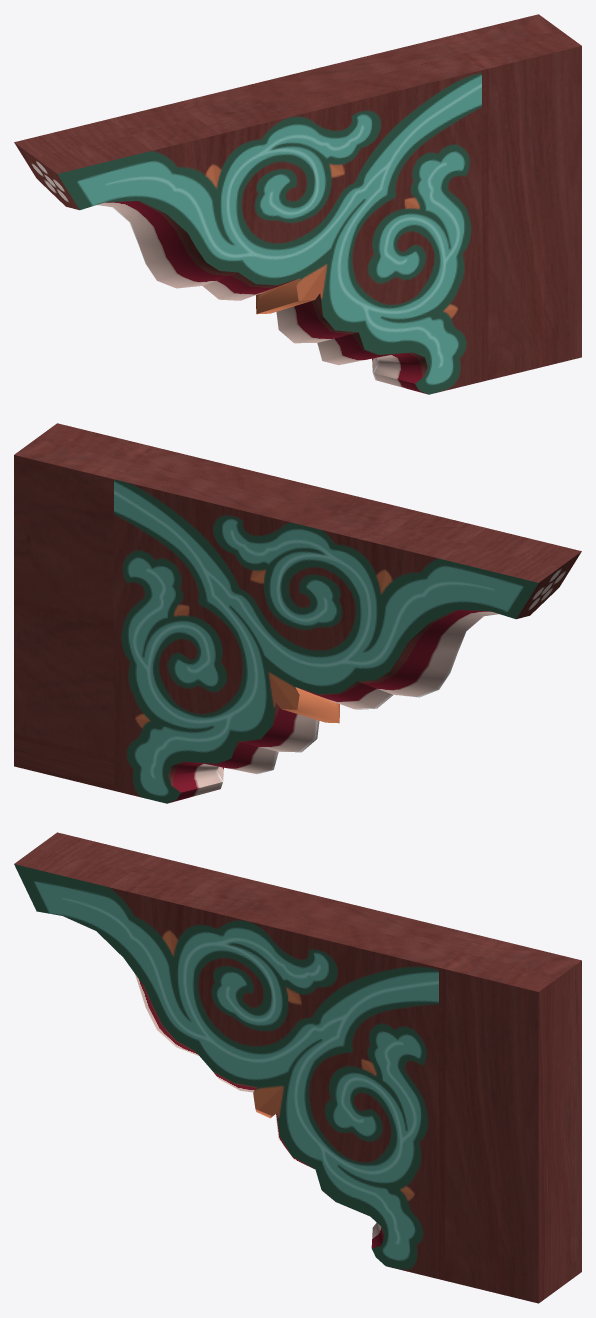
File: SM_SJJ_HG_Boaj01B.fbx
3 renders of one model, top to bottom at view 1: azimuth 30°, elevation 25°; view 2: azimuth 150°, elevation 25°; view 3: azimuth 330°, elevation 25°, orthographic.
Visible parts, largest first — view 1: SM_SJJ_HG_Boaj01B; view 2: SM_SJJ_HG_Boaj01B; view 3: SM_SJJ_HG_Boaj01B.
Boxes of the visible parts, <box> form: SM_SJJ_HG_Boaj01B: <box>14,14,581,394</box>; SM_SJJ_HG_Boaj01B: <box>14,423,581,803</box>; SM_SJJ_HG_Boaj01B: <box>14,832,581,1303</box>.
Bounding box in the file's own units: 62.57 × 8.93 × 35.5.
1 material, 1 textured.
